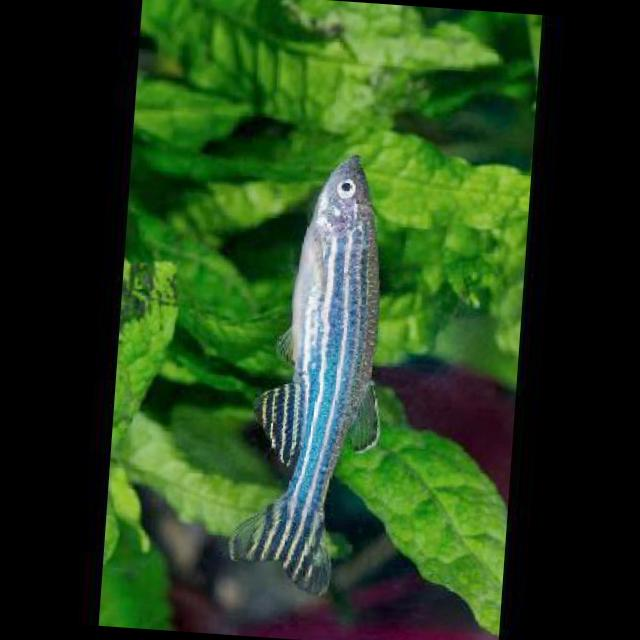ZebraFish: (228, 148, 398, 596)
